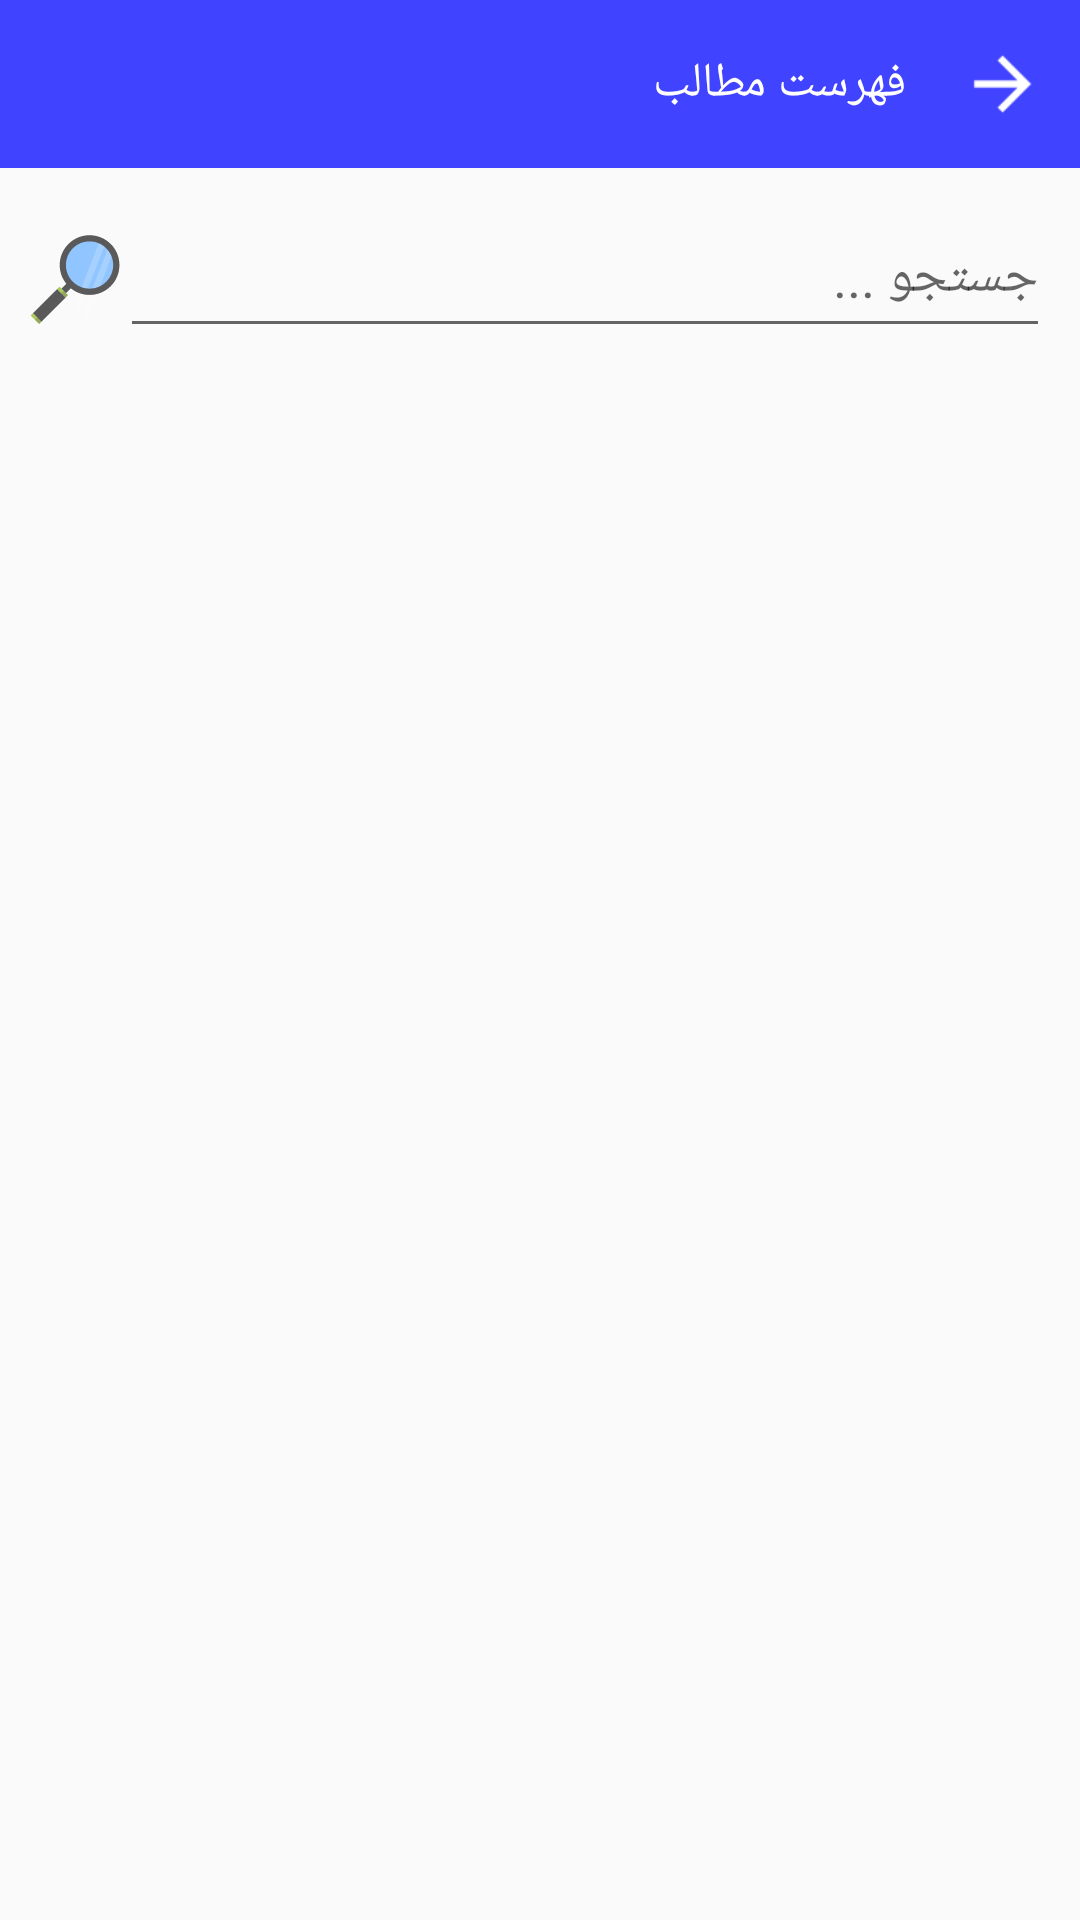

Icons on this 1080w x 1920h Android screen, each with its box as box=[x1, y1, x2, y2]:
research: box=[31, 235, 120, 324]
